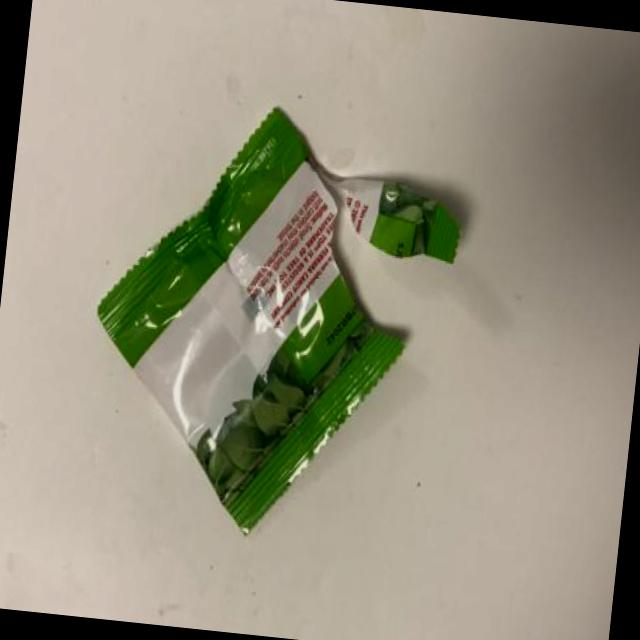giay_goi: (97, 107, 461, 532)
